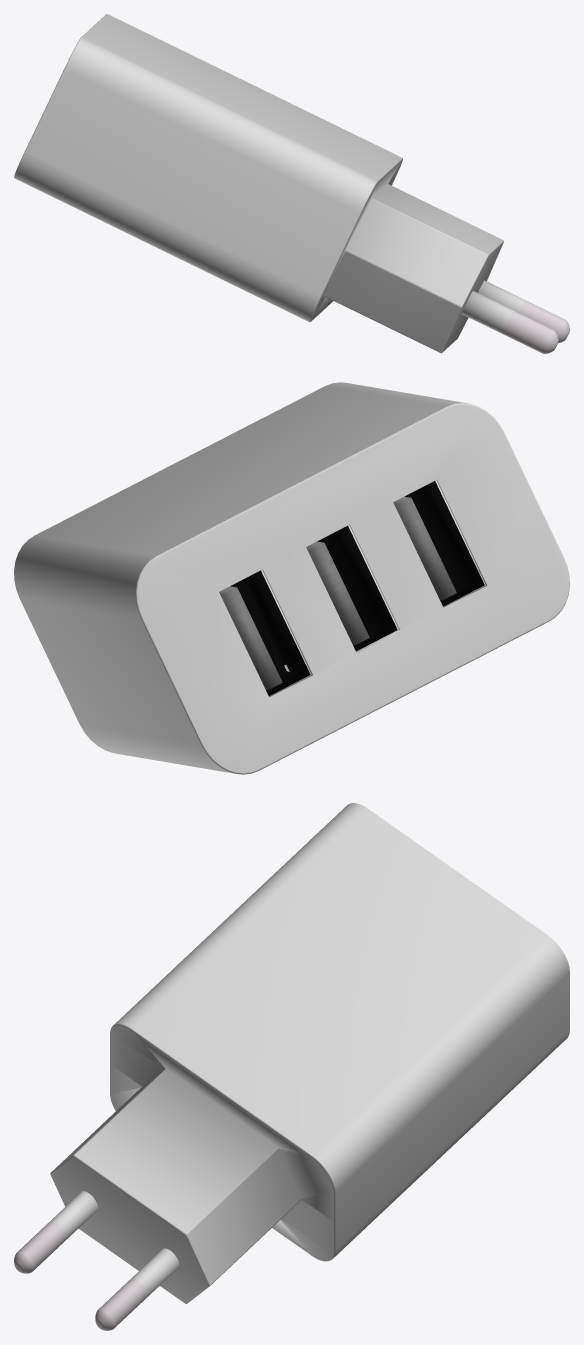
Rendered from cargador.glb.
The picture shows the model from 3 angles, top to bottom: view 1: azimuth 30°, elevation 25°; view 2: azimuth 150°, elevation 25°; view 3: azimuth 270°, elevation 25°; orthographic projection. The views are drawn at different scales.
Visible parts, largest first — view 1: USB A wall charger; view 2: USB A wall charger; view 3: USB A wall charger.
Part boxes in pixels (x1,y1,x2,y2): USB A wall charger: (14,14,569,353); USB A wall charger: (14,382,569,774); USB A wall charger: (14,803,569,1330).
Size of the model in its own units: 10.08 by 6.86 by 10.12.
Materials: 4 (1 with a texture image).
